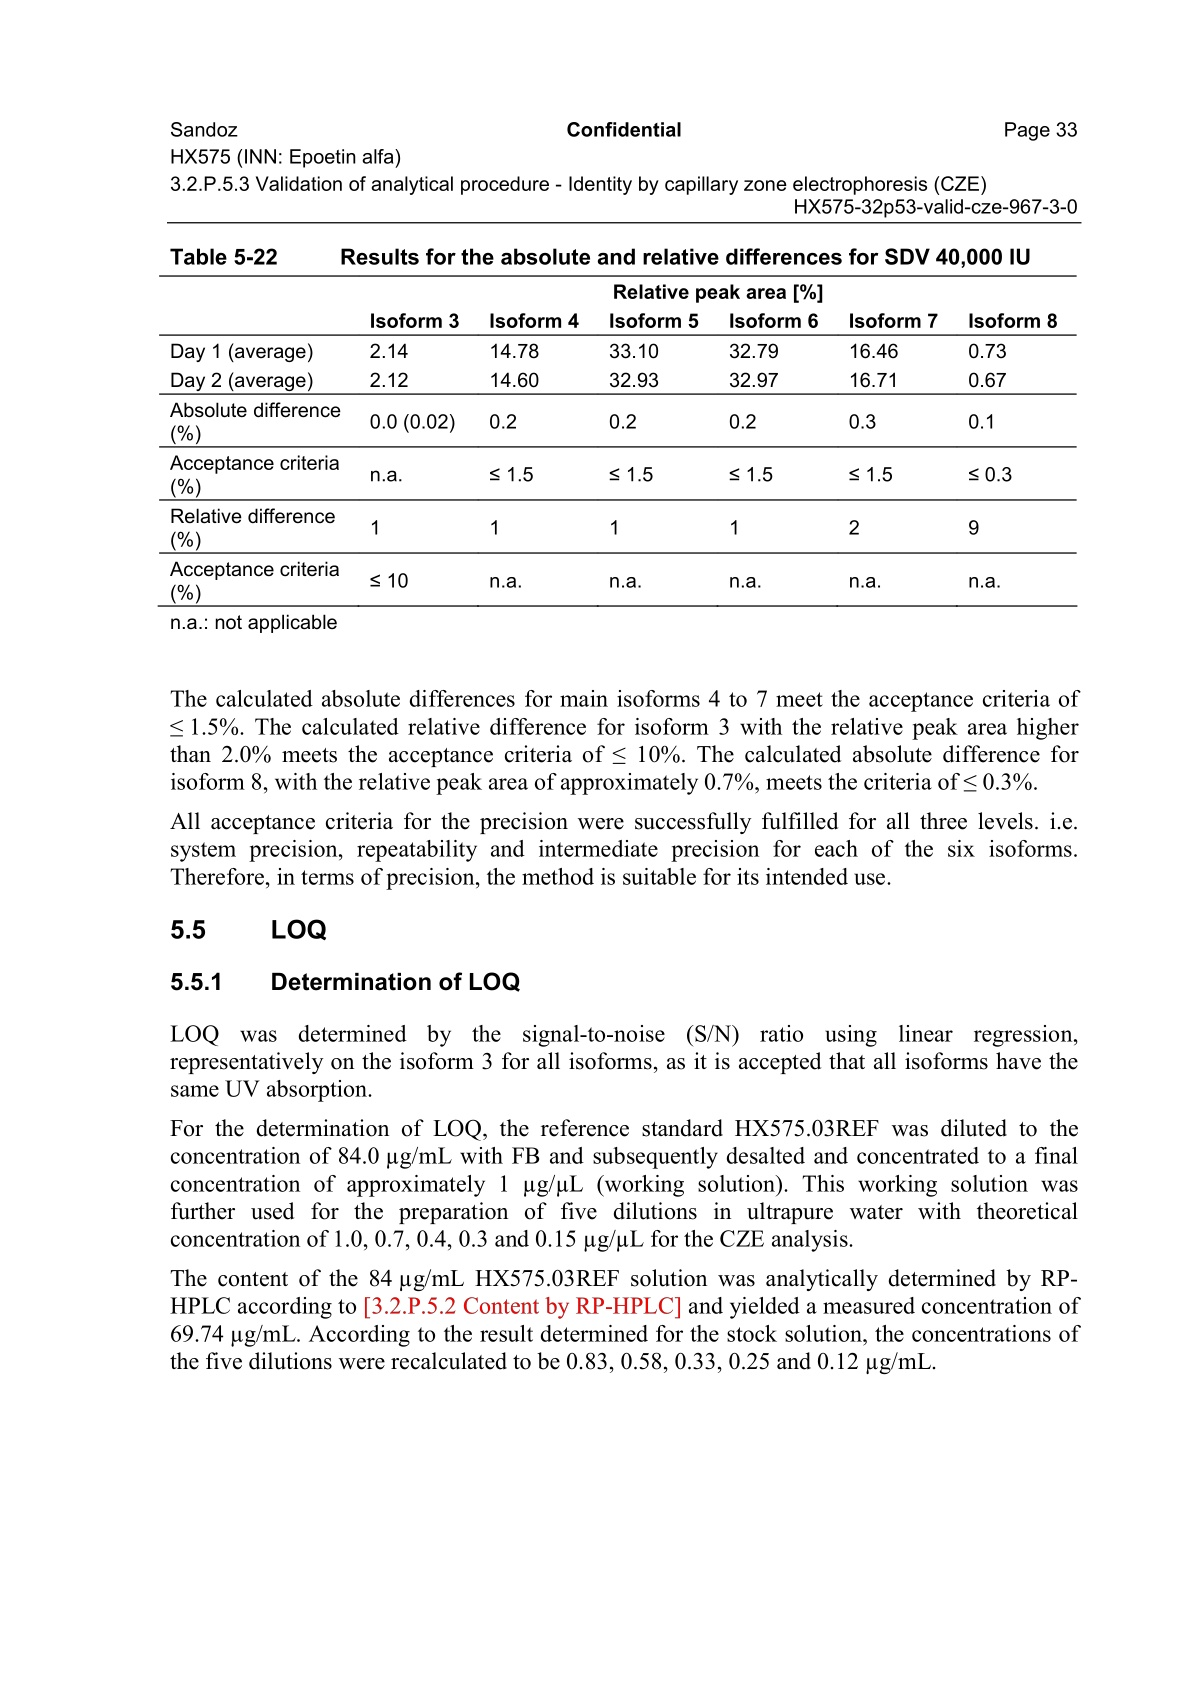partial_lined_merged_cells: (159, 274, 1076, 607)
